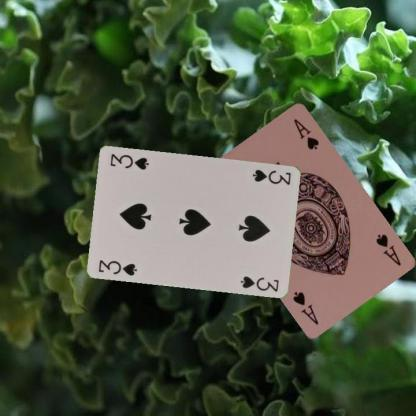3s: (250, 166, 292, 186), (96, 257, 138, 277)
As: (373, 232, 402, 268)
